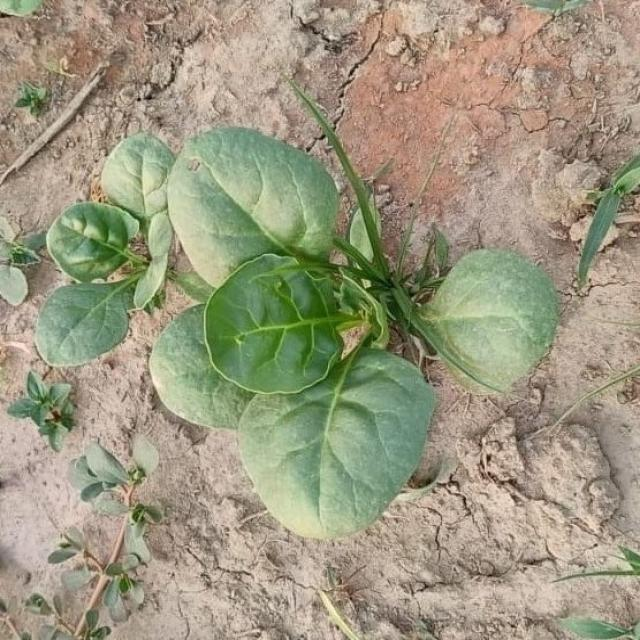plant: (35, 98, 557, 538)
